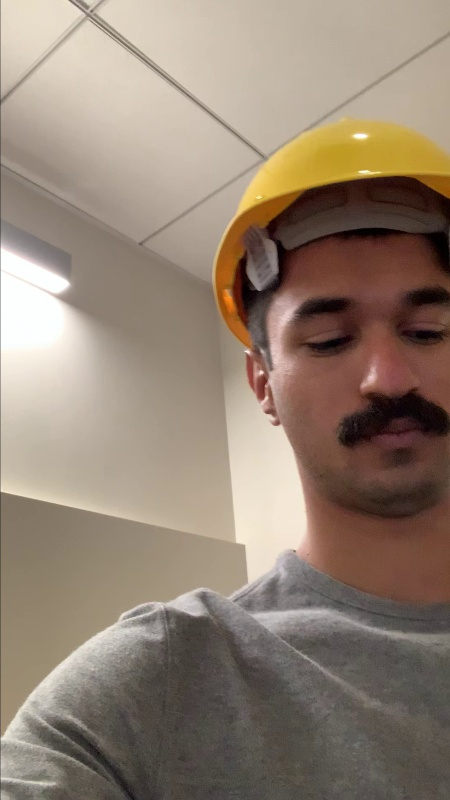helmet: (223, 119, 447, 222)
